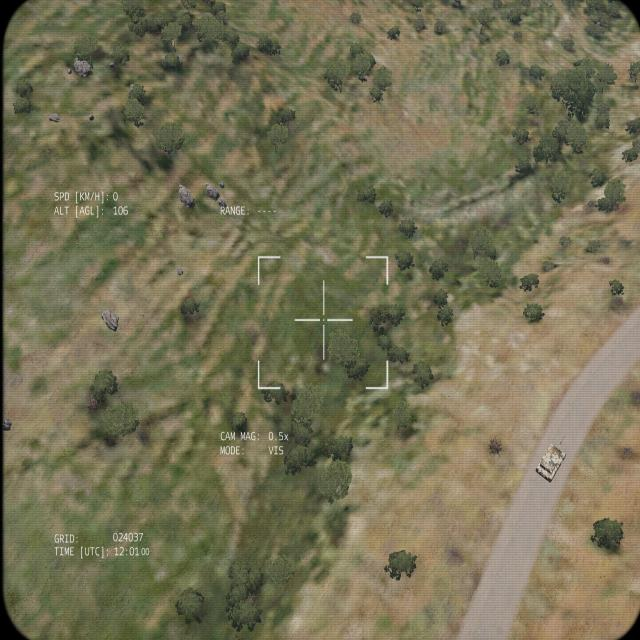tank: (534, 431, 566, 481)
